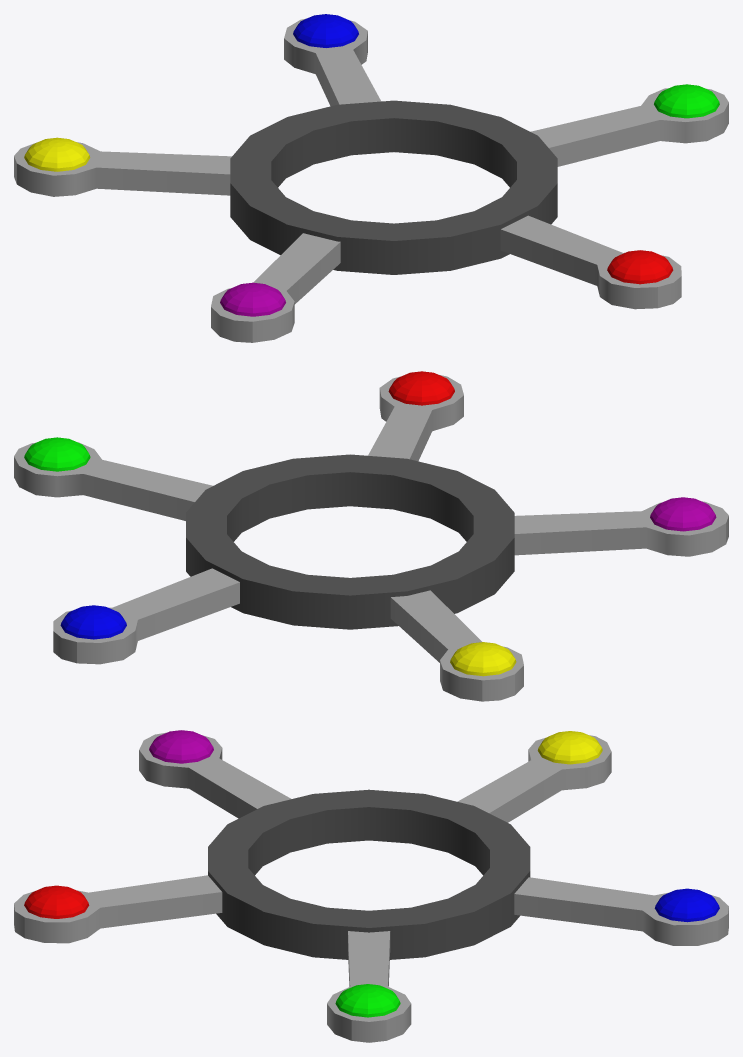
File: pronged-part.fbx
The picture shows the model from 3 angles, top to bottom: view 1: azimuth 30°, elevation 25°; view 2: azimuth 150°, elevation 25°; view 3: azimuth 270°, elevation 25°; orthographic projection. The views are drawn at different scales.
Visible parts, largest first — view 1: pSphere8, pPipe1; view 2: pSphere8, pPipe1; view 3: pSphere8, pPipe1.
Boxes of the visible parts, x1,y1,x2,y2 form: pSphere8: (14, 14, 728, 342); pPipe1: (230, 100, 557, 274); pSphere8: (14, 371, 728, 701); pPipe1: (186, 454, 514, 629); pSphere8: (14, 730, 728, 1042); pPipe1: (208, 789, 530, 959).
Bounding box in the file's own units: 11.02 × 0.7708 × 11.47.
